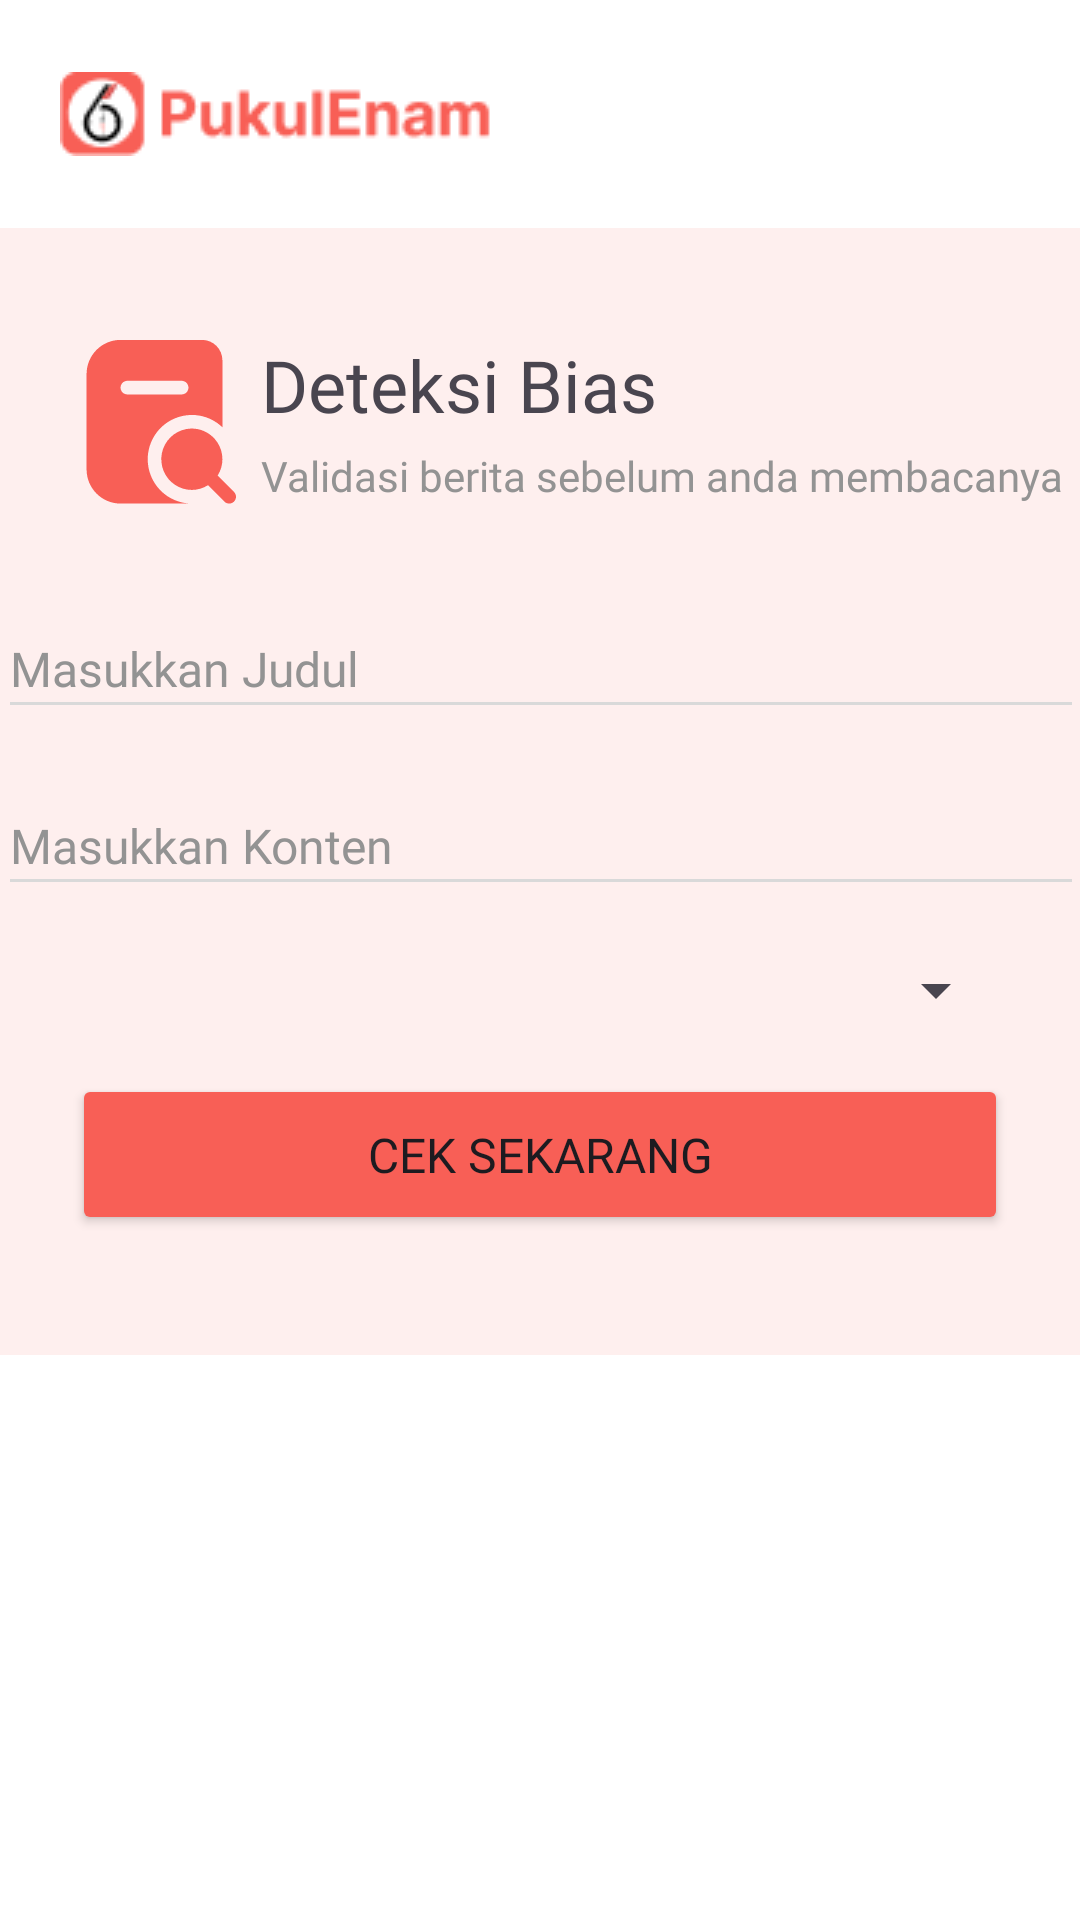

Icon click points for this 1080 x 1920 phone screenshot, format [x,y]:
deteksi hoax: [161,422]
